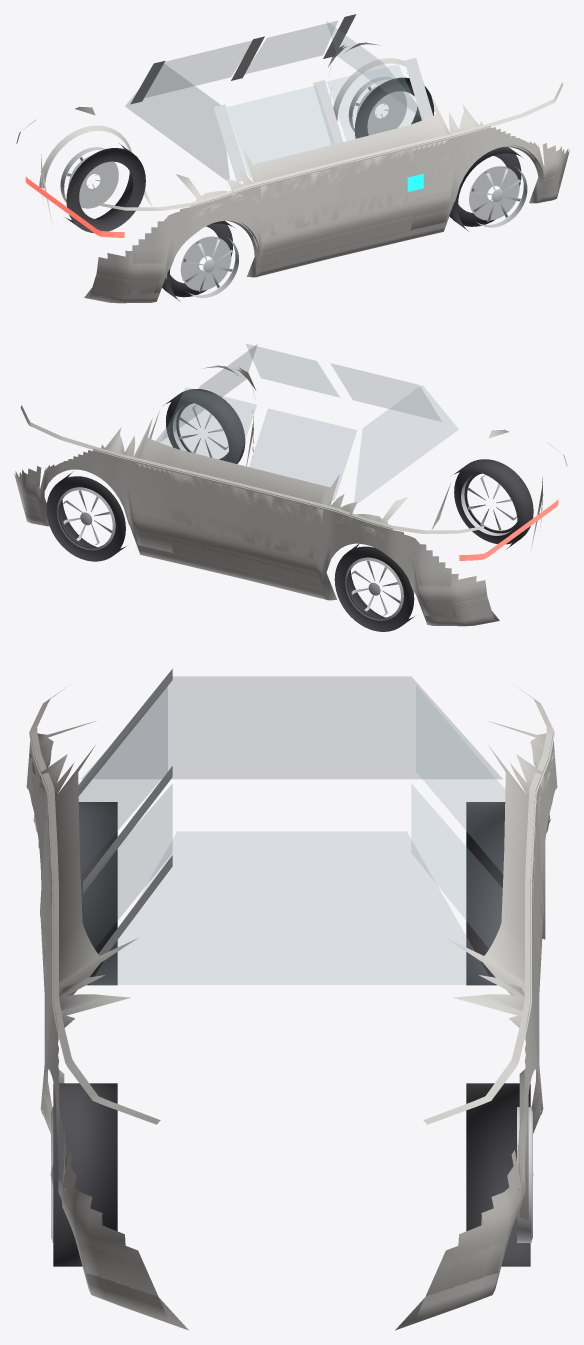
Rendered from ev-suv.glb.
3 views of the same model, one above another, from view 1: azimuth 30°, elevation 25°; view 2: azimuth 150°, elevation 25°; view 3: azimuth 270°, elevation 25° (orthographic). The views are drawn at different scales.
Visible parts, largest first — view 1: EvSuv; view 2: EvSuv; view 3: EvSuv.
Boxes of the visible parts, x1,y1,x2,y2 form: EvSuv: [16, 14, 569, 303]; EvSuv: [14, 344, 567, 631]; EvSuv: [26, 669, 557, 1330].
Bounding box in the file's own units: 4.78 × 1.68 × 2.31.
